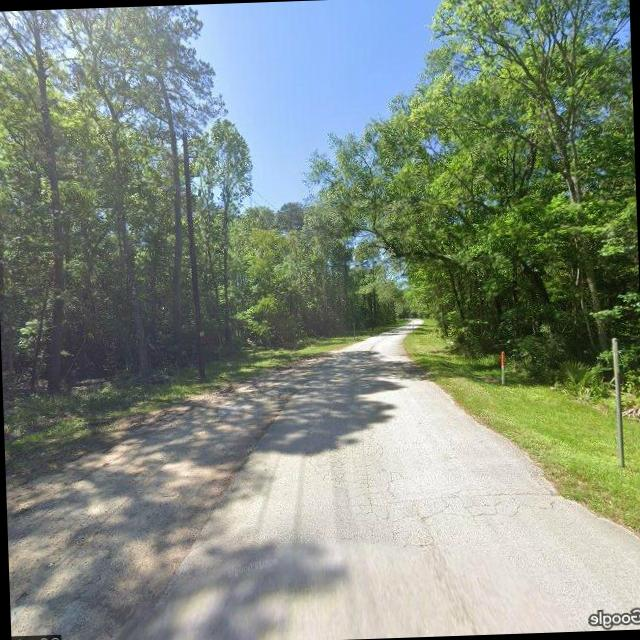crack: (303, 415, 556, 548)
